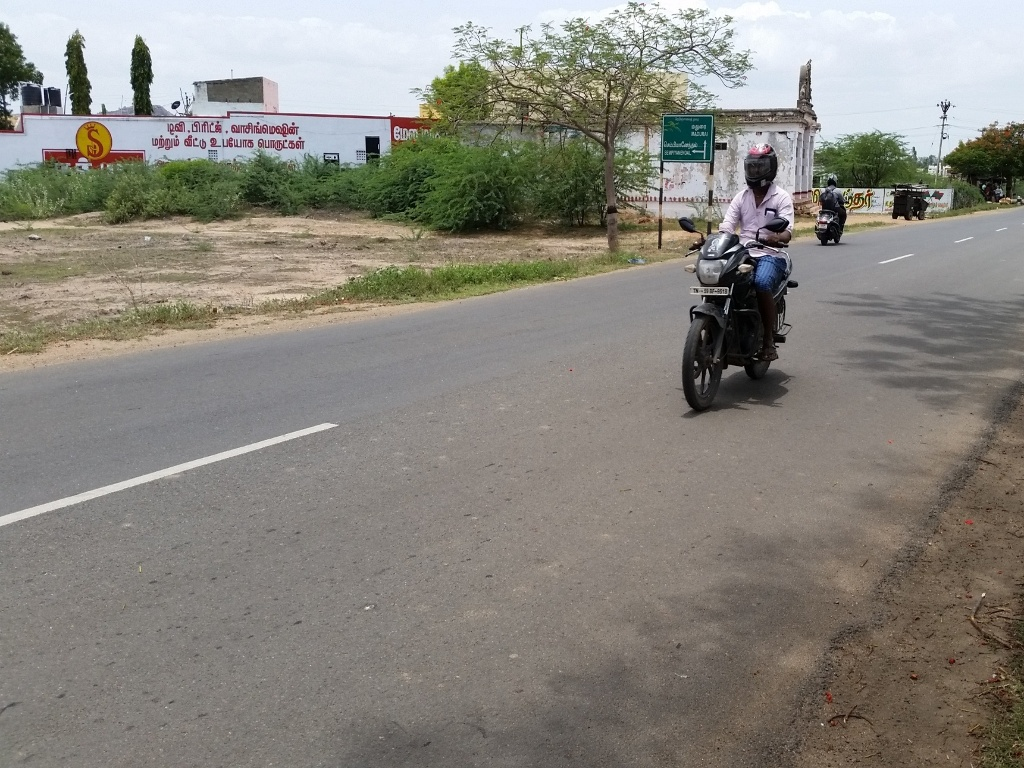biker: (665, 107, 806, 420), (808, 154, 860, 249)
helmet: (737, 137, 786, 203), (824, 169, 841, 193)
